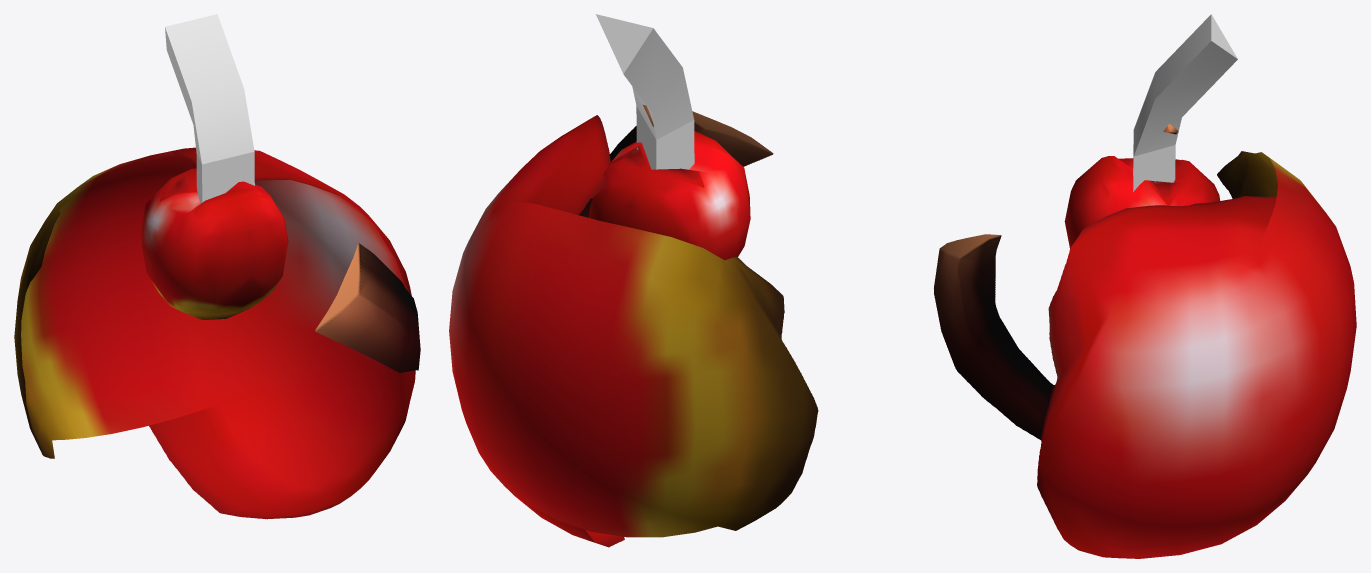
Rendered from manzana2.fbx.
3 renders of one model, left to right at view 1: azimuth 30°, elevation 25°; view 2: azimuth 150°, elevation 25°; view 3: azimuth 270°, elevation 25°, orthographic. The views are drawn at different scales.
Visible parts, largest first — view 1: Cube, Cube.003, Cube.001; view 2: Cube, Cube.003, Cube.001; view 3: Cube, Cube.001, Cube.003.
Boxes of the visible parts, <box> form: Cube: <box>14,147,420,519</box>; Cube.003: <box>141,168,288,319</box>; Cube.001: <box>165,14,254,203</box>; Cube: <box>449,111,818,547</box>; Cube.003: <box>589,105,750,260</box>; Cube.001: <box>596,14,694,169</box>; Cube: <box>934,151,1356,558</box>; Cube.001: <box>1133,14,1237,191</box>; Cube.003: <box>1064,124,1220,248</box>.
Size of the model in its own units: 228 by 300 by 218.
